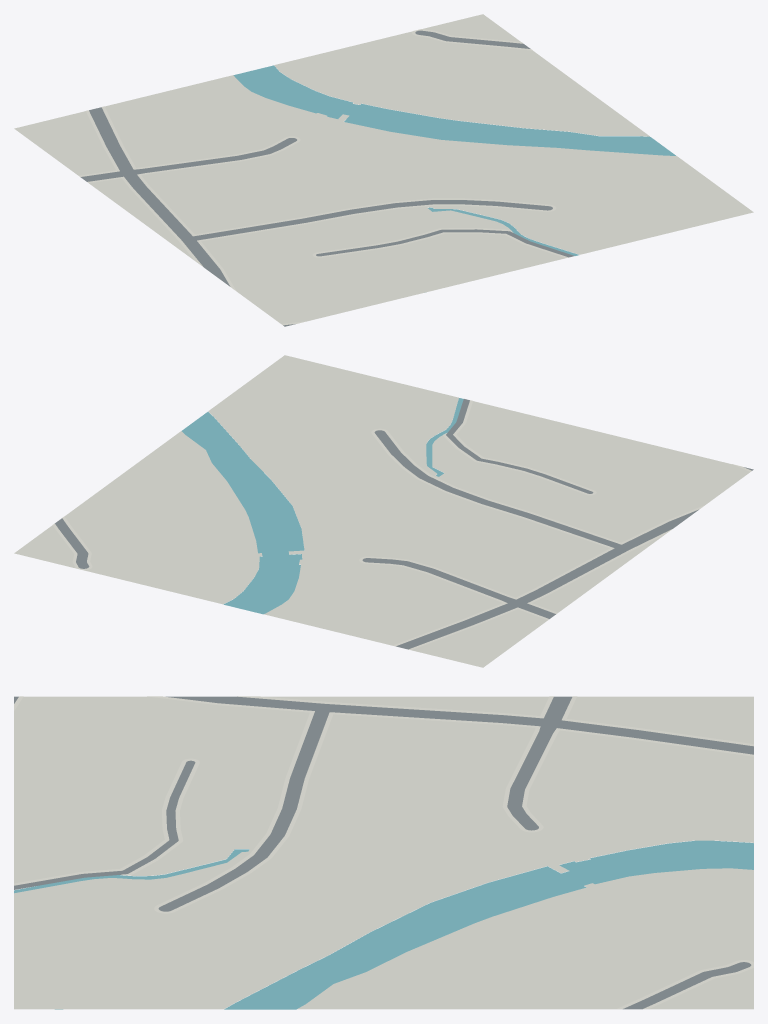
3 views of the same model, one above another, from view 1: azimuth 30°, elevation 25°; view 2: azimuth 150°, elevation 25°; view 3: azimuth 270°, elevation 25° (orthographic). The views are drawn at different scales.
Parts seen in each view (by area): view 1: city; view 2: city; view 3: city.
Boxes of the visible parts, x1,y1,x2,y2 form: city: [14, 14, 753, 326]; city: [14, 355, 753, 667]; city: [14, 696, 753, 1009].
Bounding box in the file's own units: 500 × 0.4 × 500.
